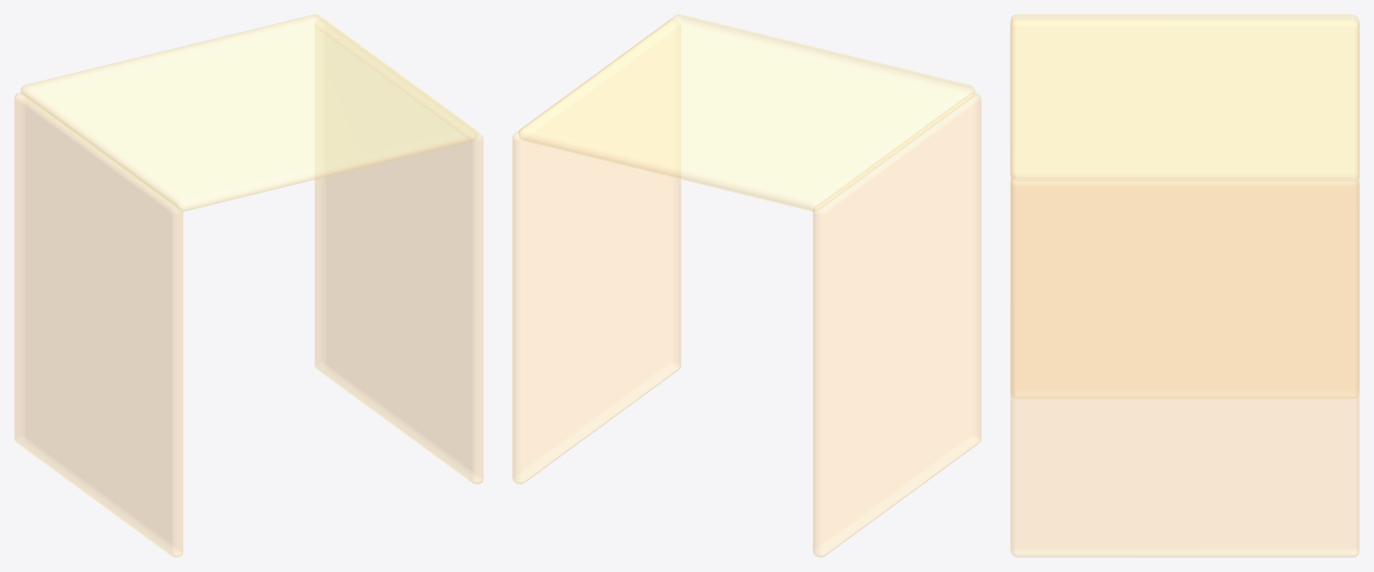
File: ref03_07.glb
The picture shows the model from 3 angles, left to right: view 1: azimuth 30°, elevation 25°; view 2: azimuth 150°, elevation 25°; view 3: azimuth 270°, elevation 25°; orthographic projection. The views are drawn at different scales.
Visible parts, largest first — view 1: ref03_07; view 2: ref03_07; view 3: ref03_07.
Boxes of the visible parts, bbox=[...] form: ref03_07: bbox=[14, 14, 483, 557]; ref03_07: bbox=[512, 14, 981, 557]; ref03_07: bbox=[1010, 14, 1359, 557].
Size of the model in its own units: 0.448 by 0.489 by 0.4.
